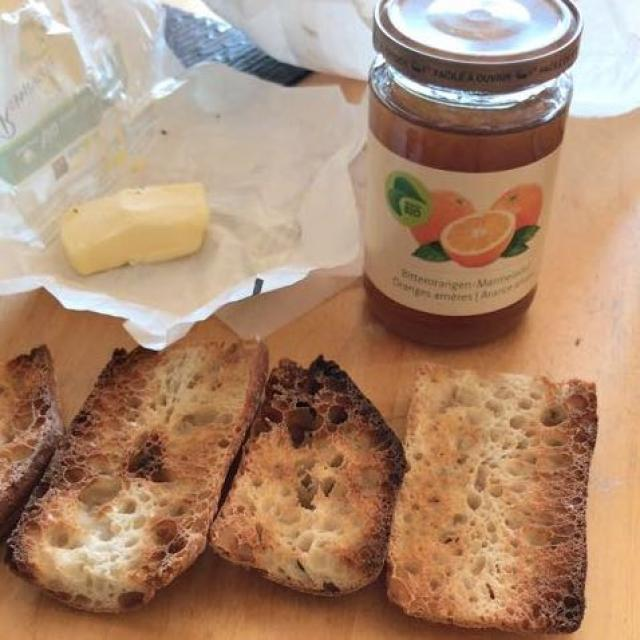bread: (14, 334, 595, 602)
butter: (51, 165, 232, 277)
